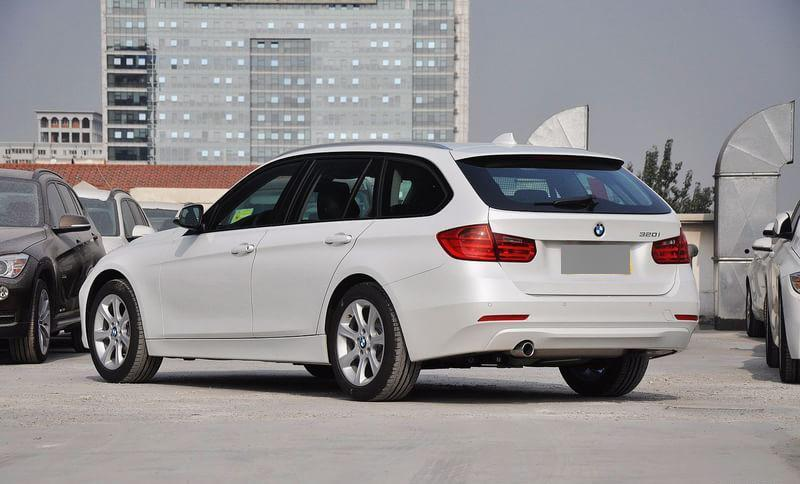Wagon: (77, 137, 702, 403)
